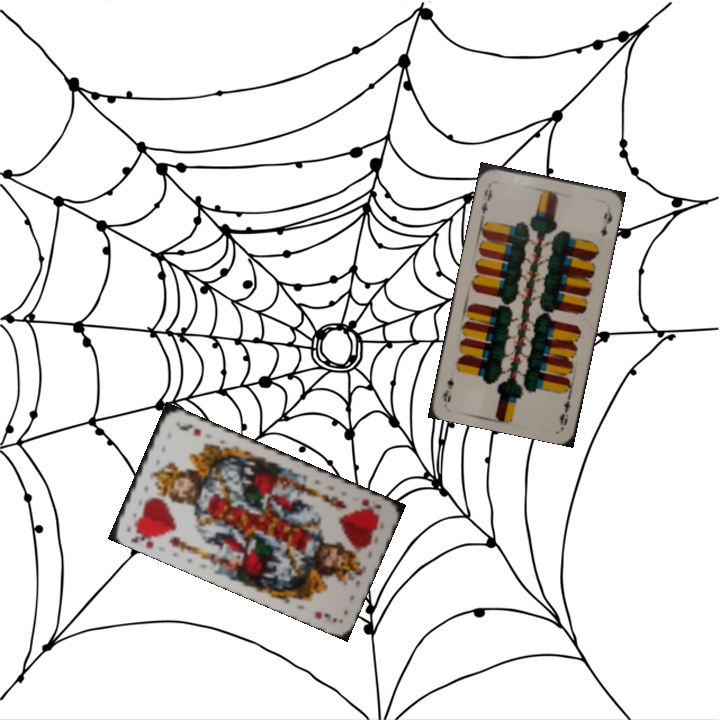E9: (555, 387, 574, 428), (477, 179, 495, 216)
HK: (126, 524, 162, 551), (357, 494, 384, 519)
